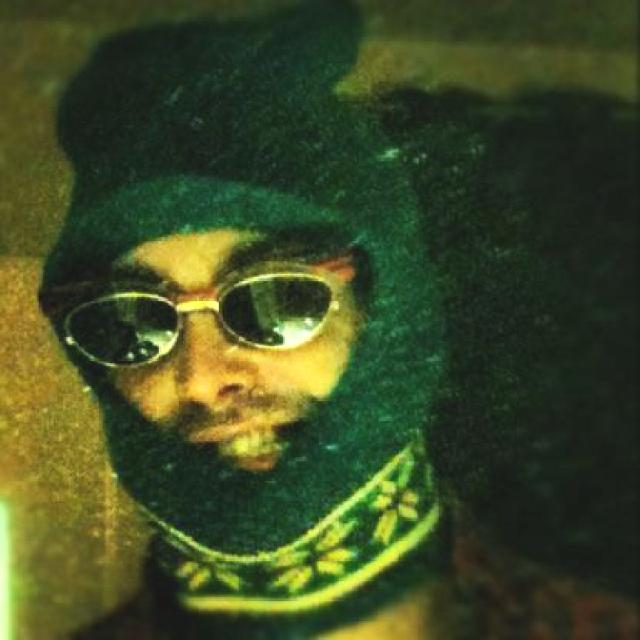face_nomask: (70, 249, 367, 480)
glasses: (61, 258, 364, 374)
